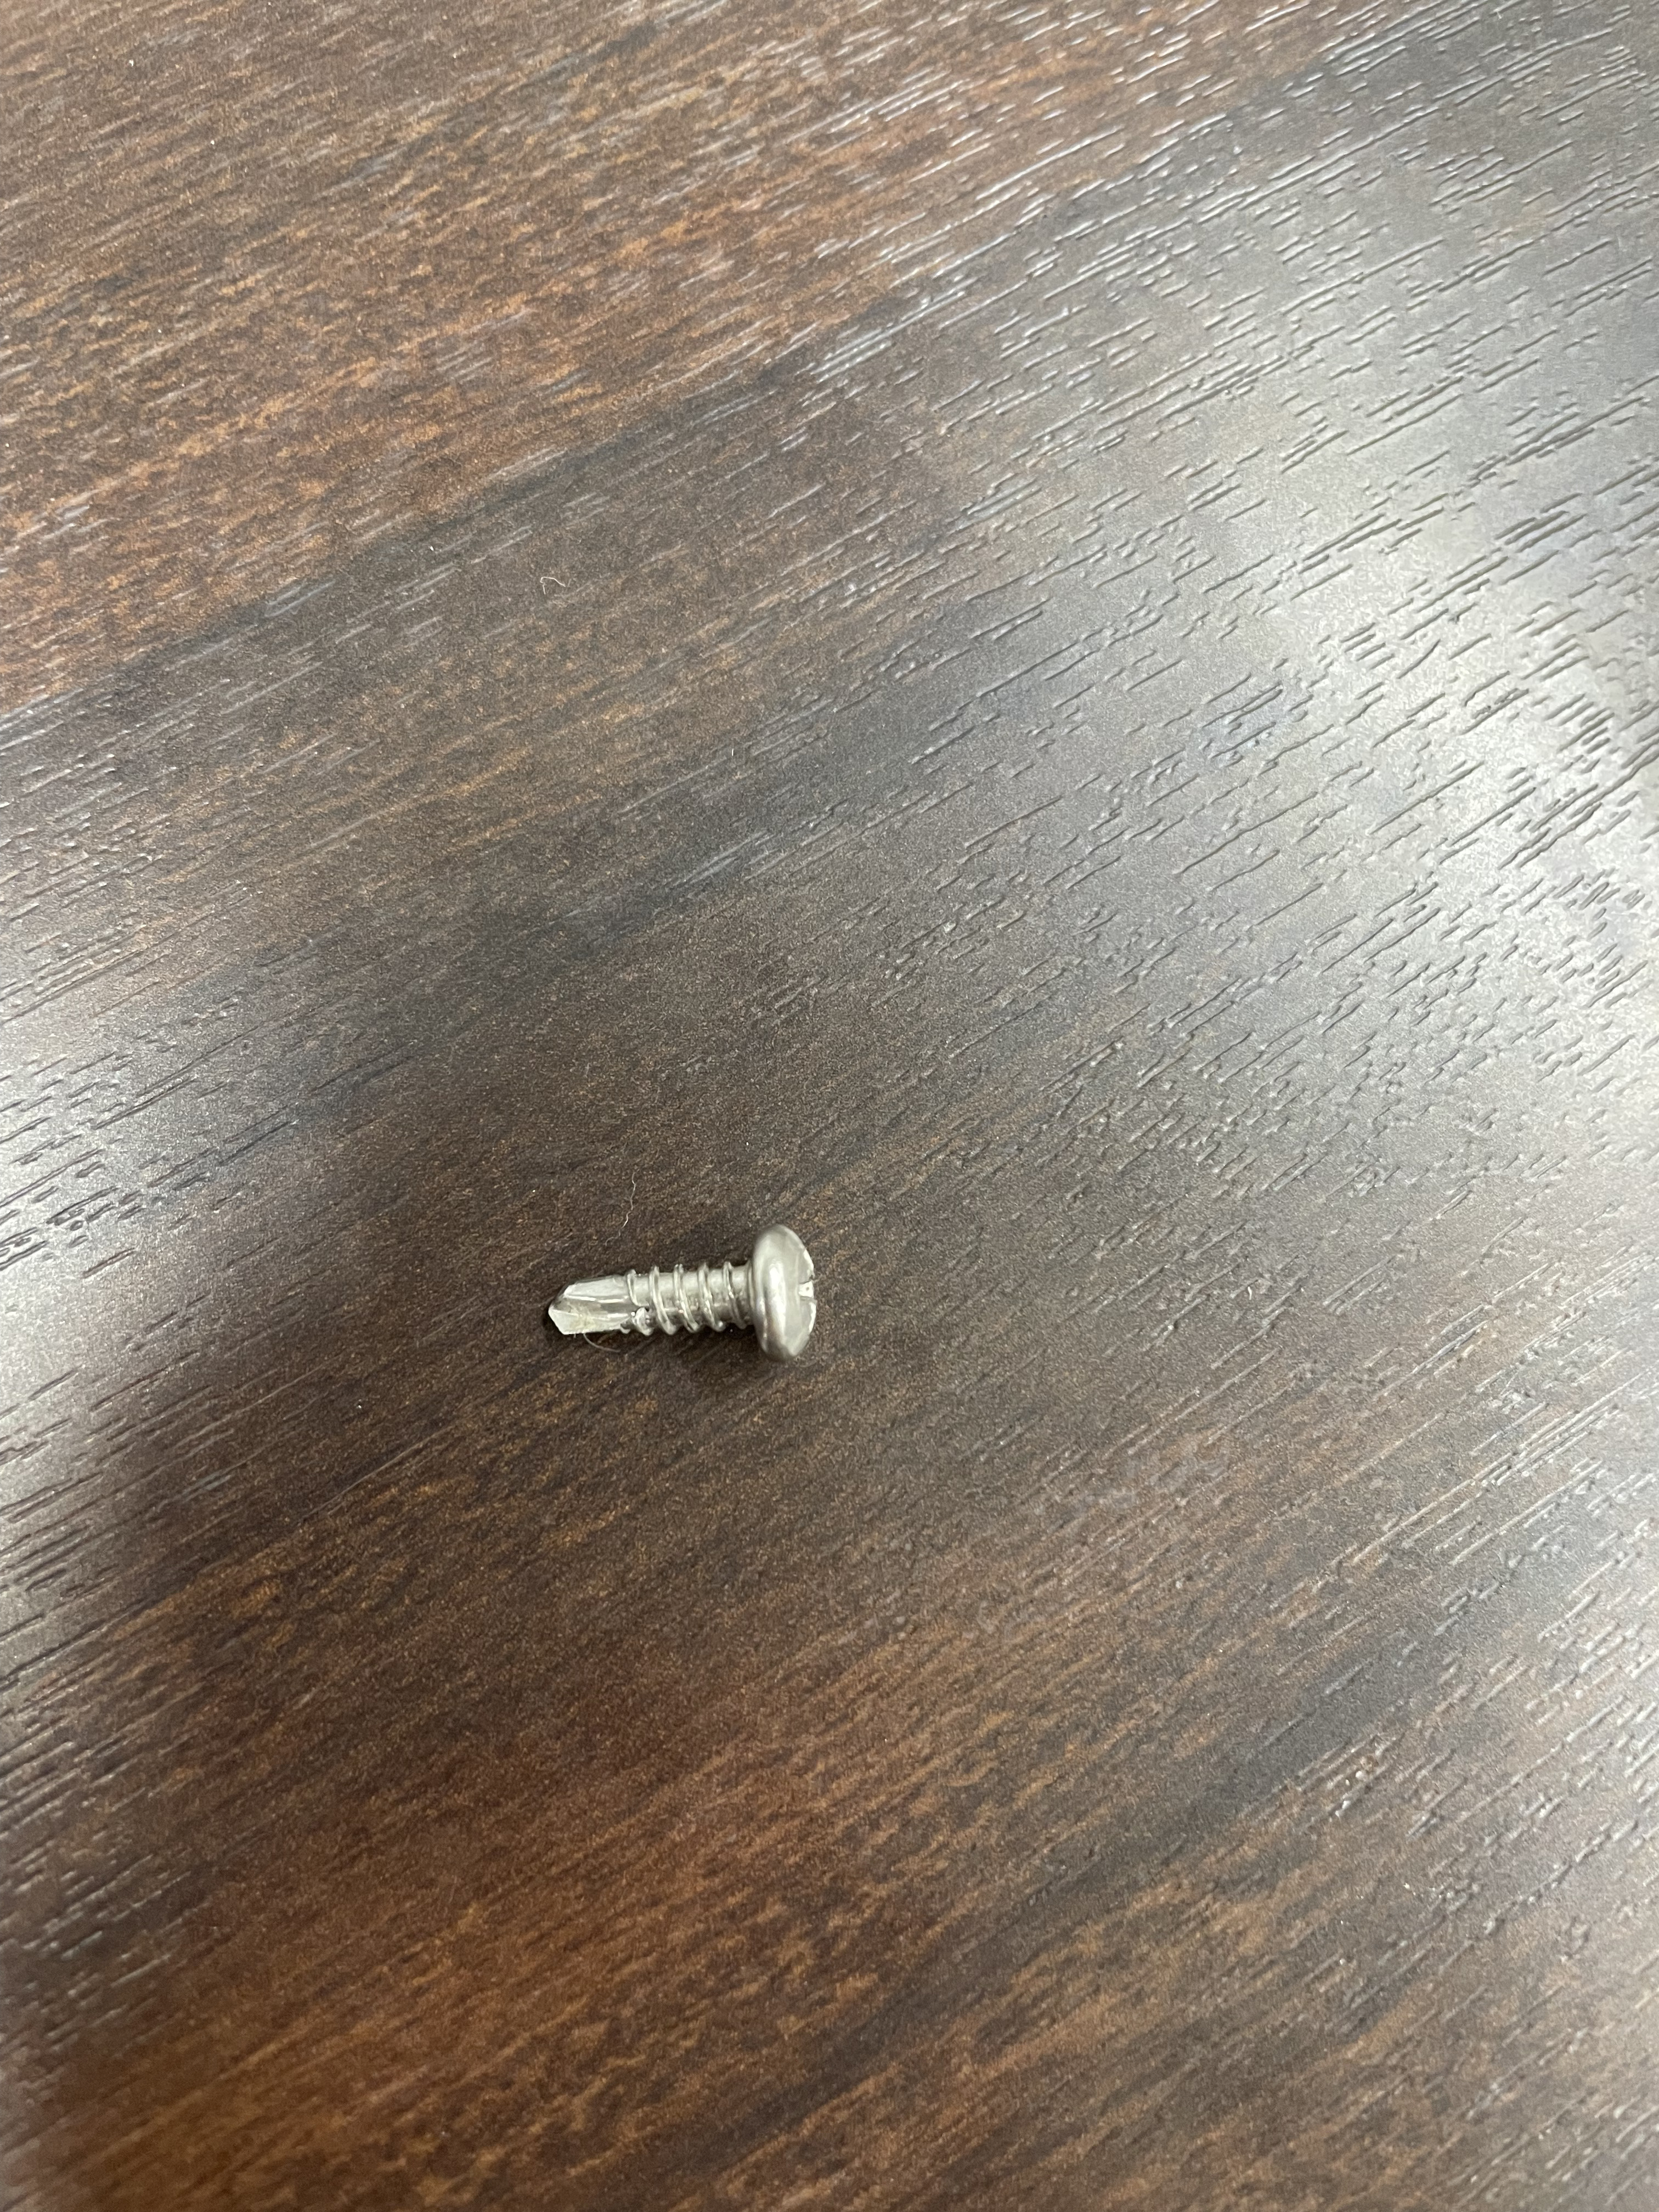screw3: (547, 1220, 821, 1372)
